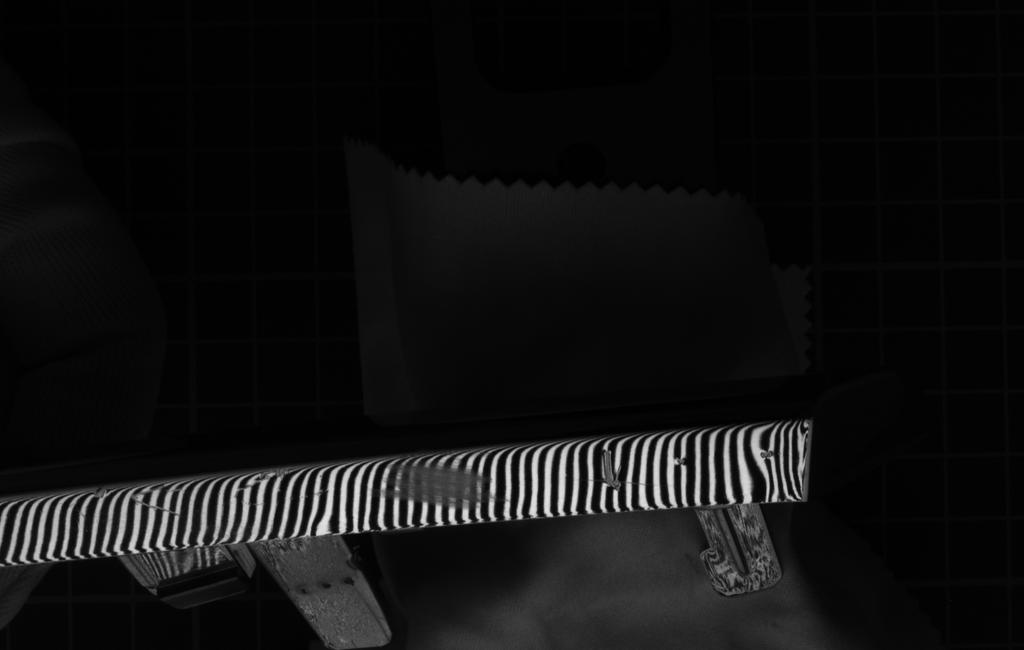Pierced: (754, 442, 780, 465), (667, 451, 693, 472), (93, 487, 114, 503)
Pitting: (366, 457, 501, 516)
Scratch: (127, 481, 194, 520), (226, 466, 298, 501), (593, 446, 632, 493)
